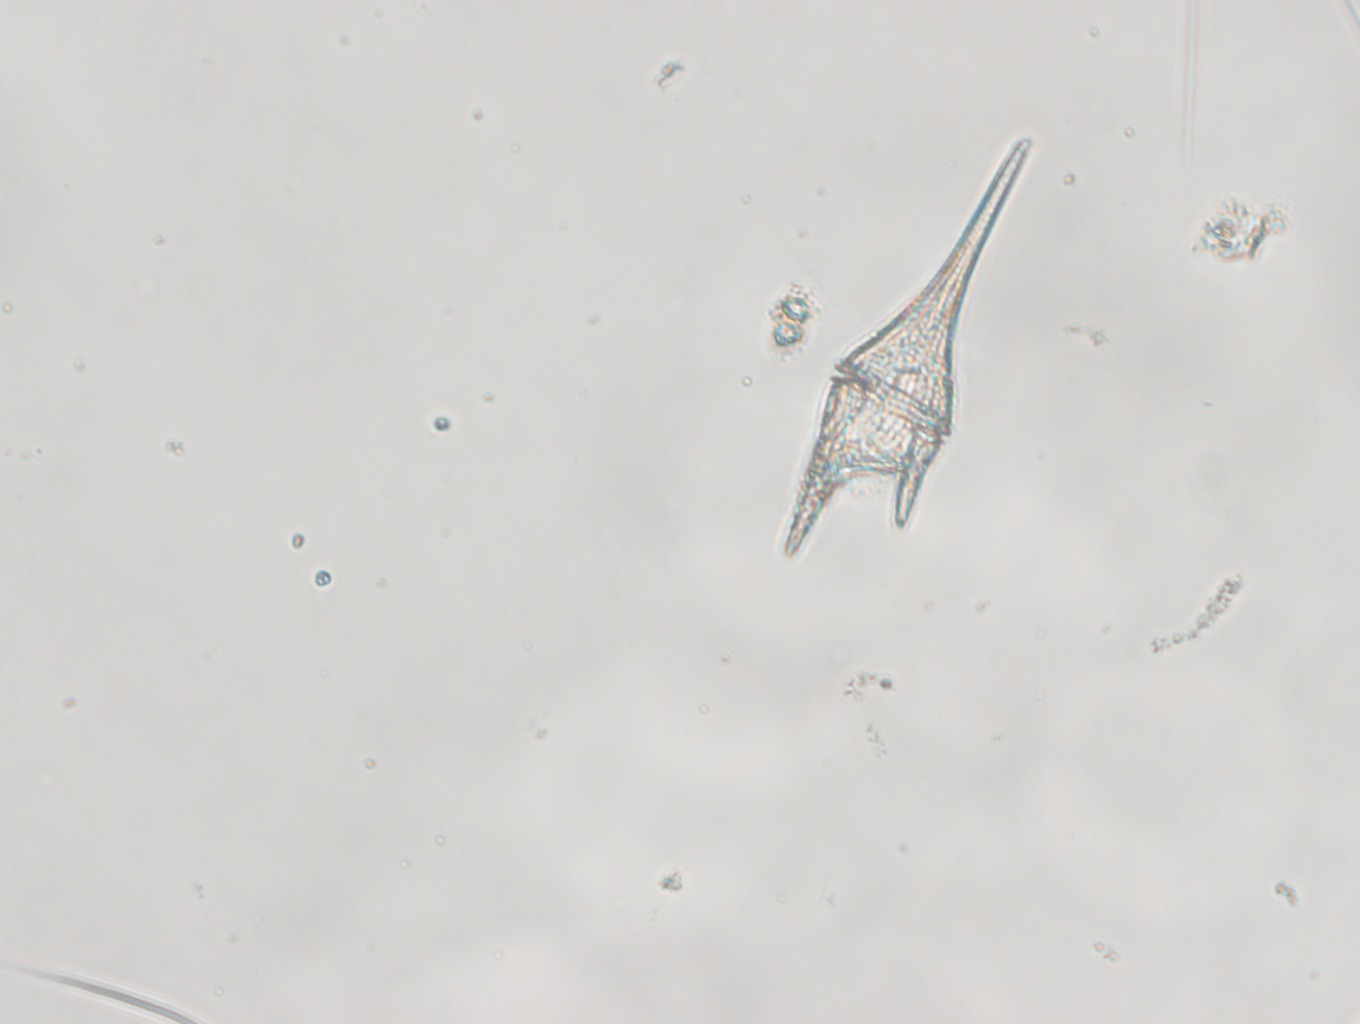ceratium furca: (779, 140, 1032, 561)
